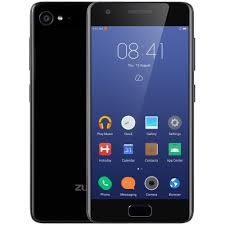lenovo: (83, 1, 195, 223)
